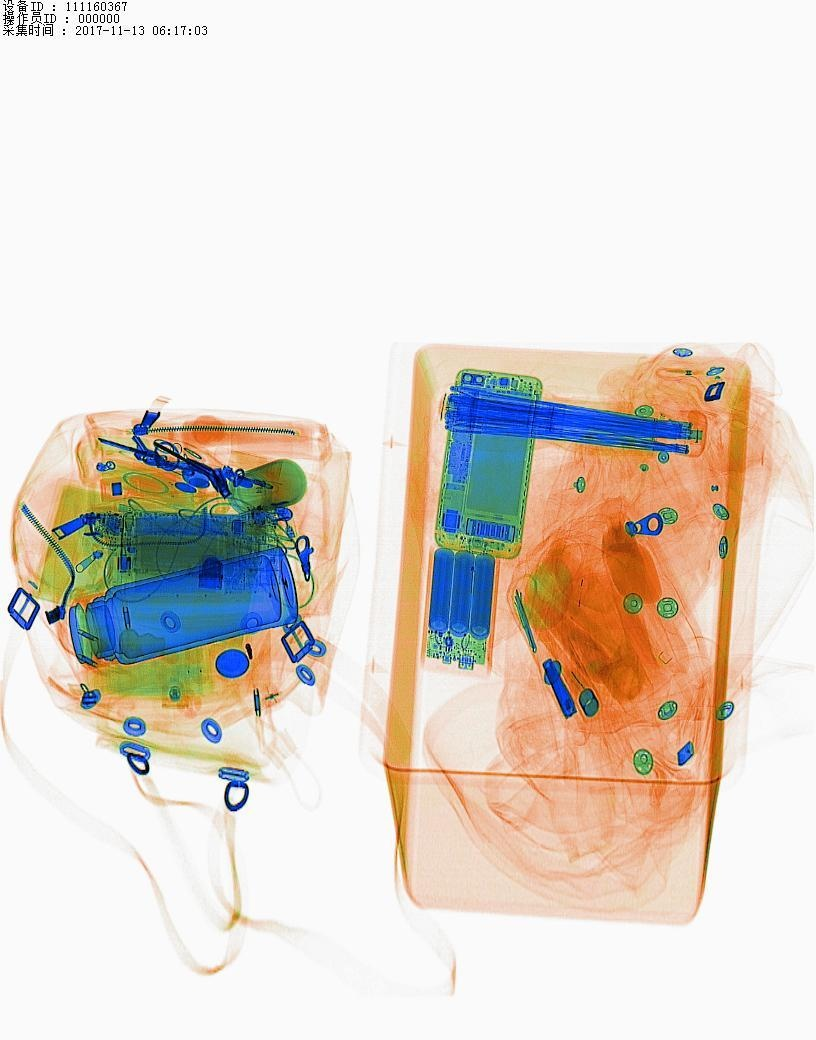core: (422, 546, 496, 662)
